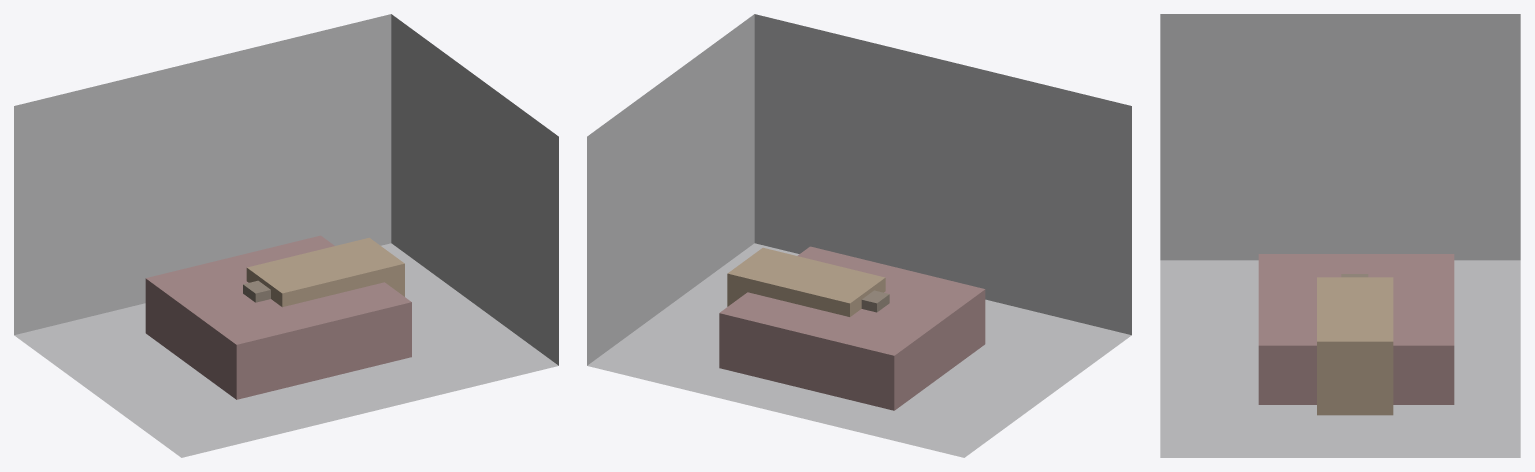
The model's file is current_layout.glb.
3 renders of one model, left to right at view 1: azimuth 30°, elevation 25°; view 2: azimuth 150°, elevation 25°; view 3: azimuth 270°, elevation 25°, orthographic. The views are drawn at different scales.
Visible parts, largest first — view 1: room, bed, desk; view 2: room, bed, desk; view 3: room, bed, desk.
Part boxes in pixels (x1=…): room: x1=14, y1=14, x2=558, y2=457; bed: x1=145, y1=235, x2=411, y2=399; desk: x1=246, y1=237, x2=404, y2=307; room: x1=587, y1=14, x2=1131, y2=457; bed: x1=719, y1=246, x2=985, y2=410; desk: x1=727, y1=247, x2=885, y2=316; room: x1=1160, y1=14, x2=1520, y2=457; bed: x1=1258, y1=254, x2=1454, y2=404; desk: x1=1317, y1=277, x2=1393, y2=415.
Bounding box in the file's own units: 4.31 × 2.5 × 3.31.
